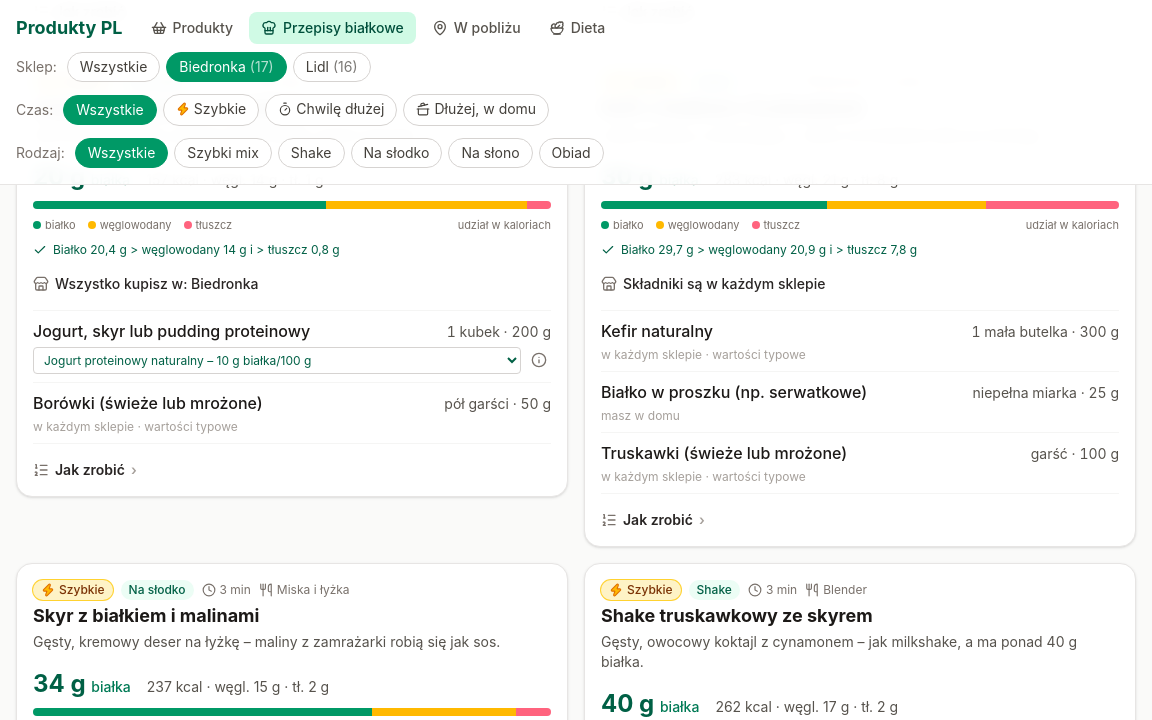
Test case: Przepisy › an ingredient opens the product detail
(page scrolled)
Click the button named "Szczegóły: Jogurt proteinowy naturalny": (539, 360) [527,348,551,372]
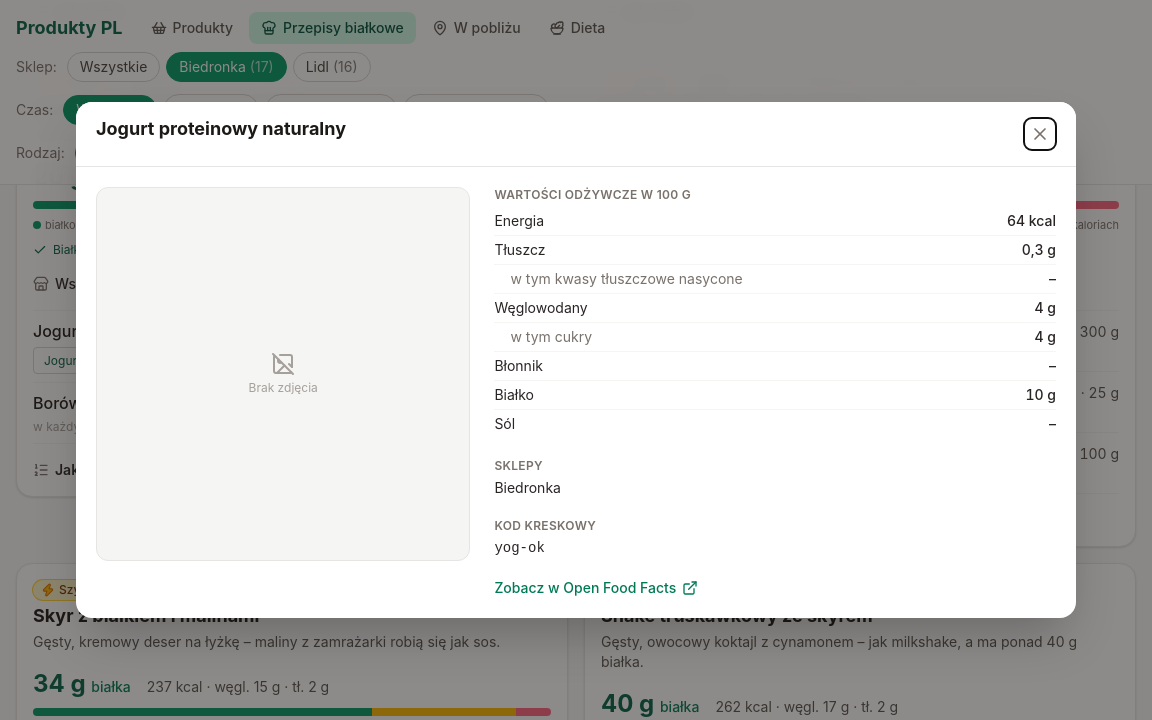
Expected: the dialog "Jogurt proteinowy naturalny" is shown
